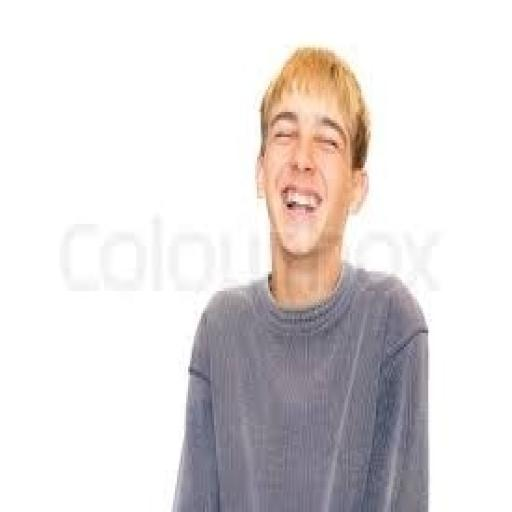laughing: (164, 39, 436, 509)
